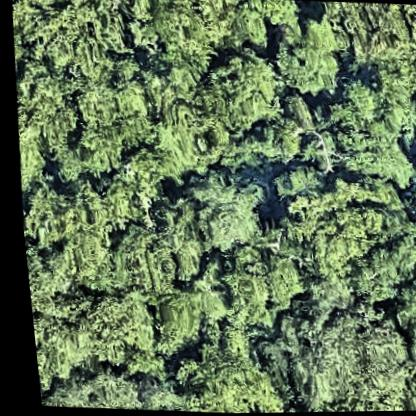tree-top: (288, 193, 416, 306), (281, 305, 405, 413), (268, 176, 385, 282), (130, 66, 229, 179), (35, 280, 152, 374), (16, 183, 113, 283), (55, 72, 143, 176), (8, 65, 85, 180), (162, 339, 276, 414), (323, 1, 416, 92), (207, 236, 298, 328), (132, 0, 244, 72), (30, 0, 134, 76), (175, 167, 262, 253), (268, 13, 347, 104), (202, 50, 281, 135), (323, 103, 404, 184), (141, 191, 205, 287), (136, 282, 212, 356), (39, 360, 137, 411), (335, 242, 405, 305), (225, 0, 302, 52), (9, 106, 46, 205), (378, 272, 416, 342), (122, 365, 176, 411), (265, 160, 321, 204), (409, 124, 416, 187), (409, 71, 416, 132), (410, 181, 416, 244)
